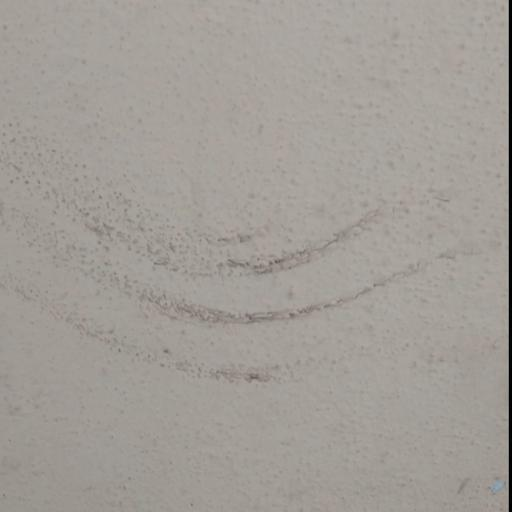stain: (1, 109, 512, 424)
